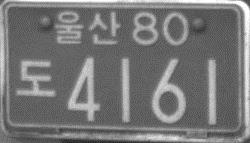0: (162, 11, 189, 46)
1: (118, 56, 133, 124), (205, 58, 220, 125)
4: (66, 56, 101, 122)
6: (151, 58, 188, 125)
8: (132, 10, 158, 47)
도: (15, 59, 57, 99)
울산_O: (54, 9, 121, 47)
